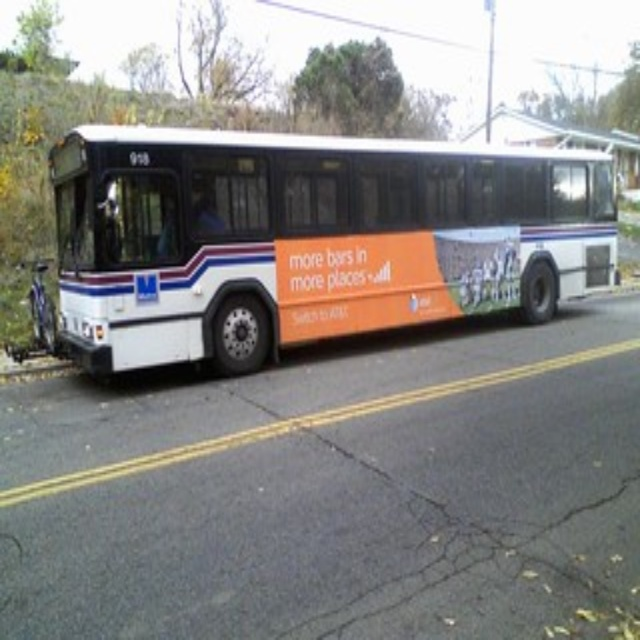Bus: (46, 123, 620, 384)
